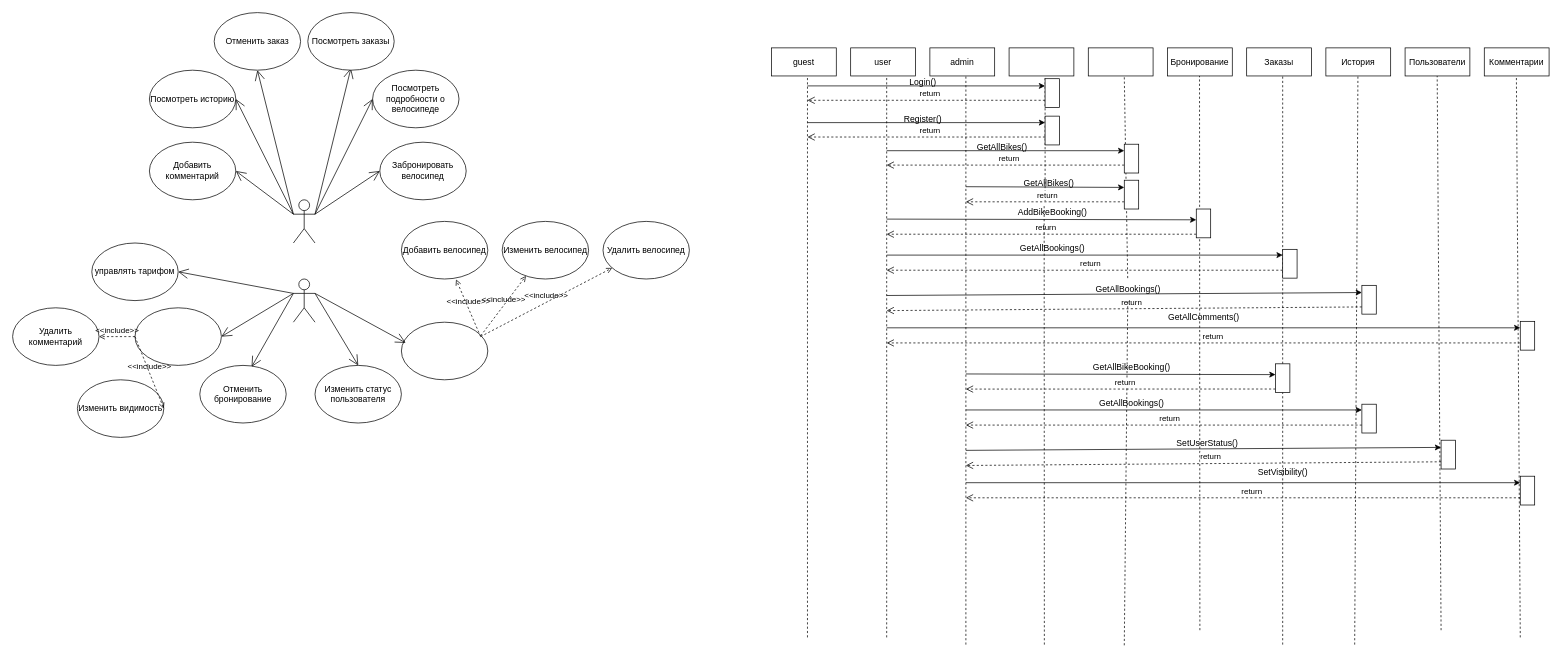
Image size: 1562x659. Some labels were removed from this diagram. Here are the shapes that lost their labels. From the top down, the centre of each, then its label:
point 1041,61: Аккаунт
point 1120,61: Главная
point 304,221: Пользователь
point 304,300: Администратор
point 177,336: Управлять комментариями
point 444,350: Управлять велосипедами
